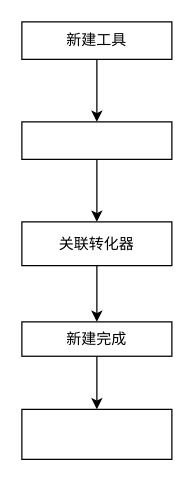
The diagram is 194 pixels wide and 481 high, and some of its shapes have lost their labels. The box of each missing label's shape, as (x1, y1, x2, y2) in pixels:
执行工具: (21, 408, 172, 459)
配置数据集: (21, 121, 172, 159)
